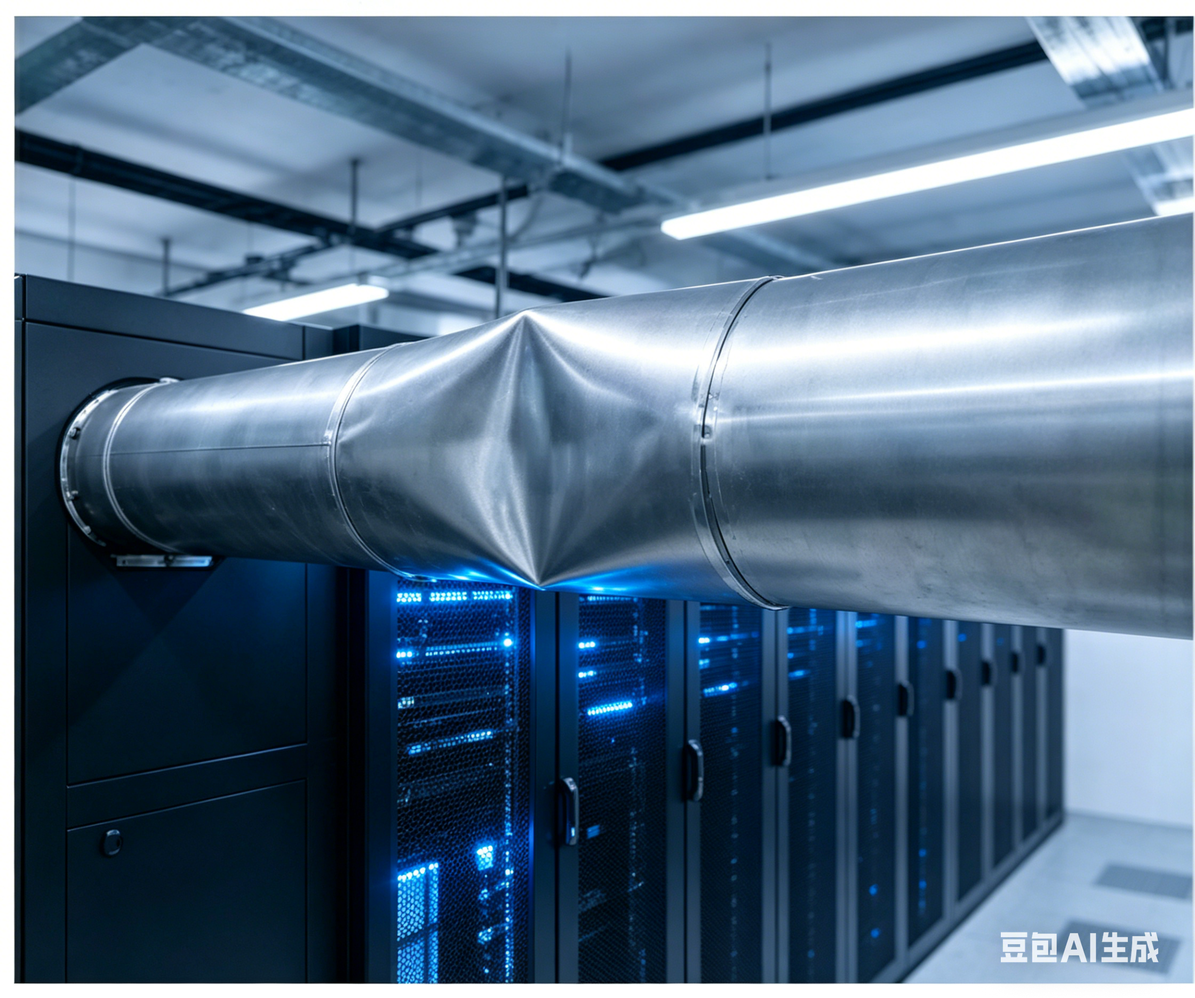Leakage: (393, 301, 659, 584)
